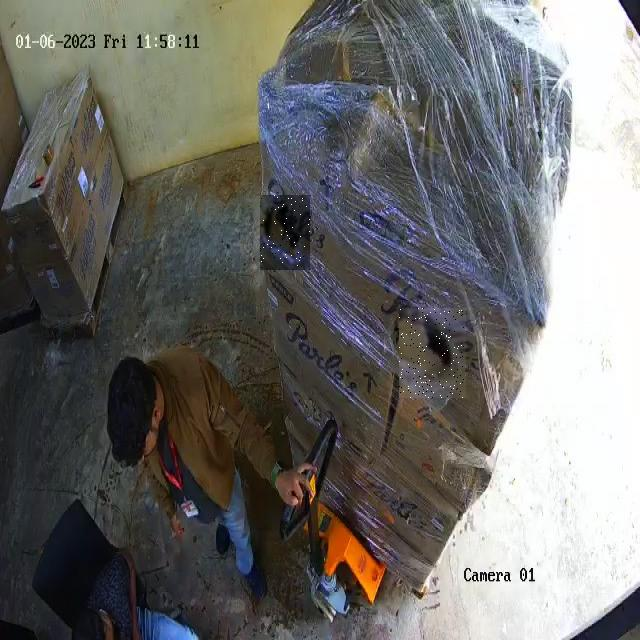leakage: (400, 308, 464, 398), (260, 195, 310, 270)
